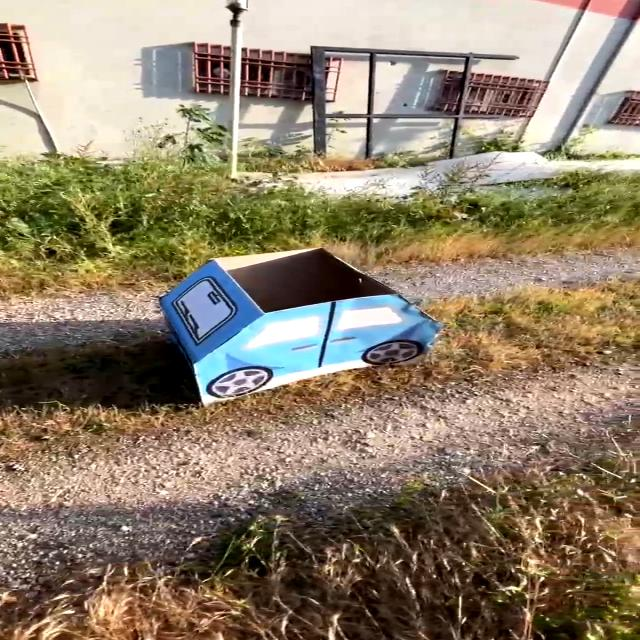blue_car: (102, 245, 464, 411)
